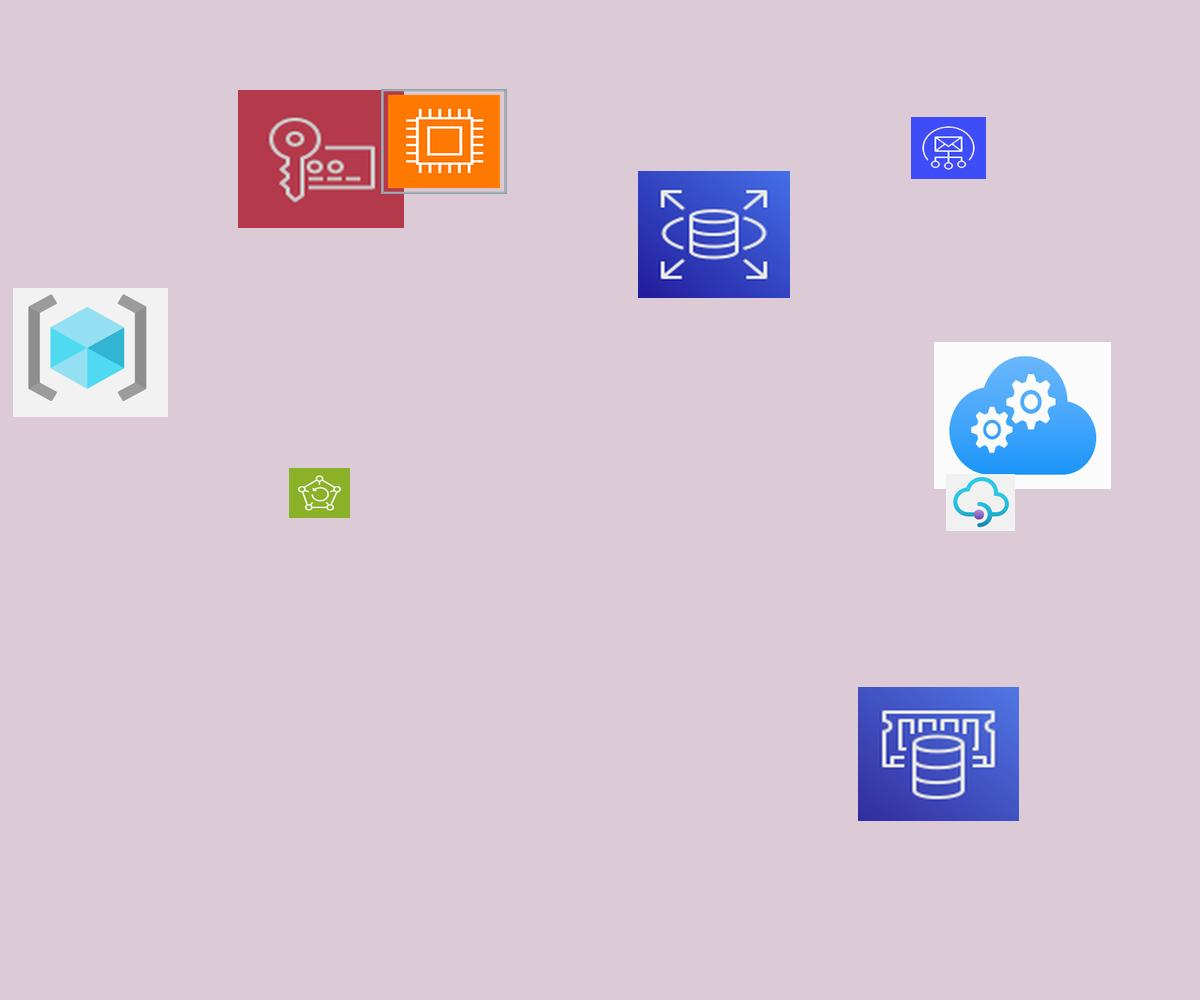AWS-Backup: (289, 468, 350, 518)
AWS-Category_Compute: (381, 89, 507, 194)
AWS-ElastiCache: (858, 687, 1019, 821)
AWS-Key-Management-Service: (238, 90, 404, 228)
AWS-RDS: (638, 171, 790, 298)
AWS-Simple-Email-Service: (911, 117, 986, 179)
Azure_api_gateway: (946, 474, 1015, 531)
Azure_cloud_services: (934, 342, 1111, 489)
Azure_resource_group: (13, 288, 168, 417)
